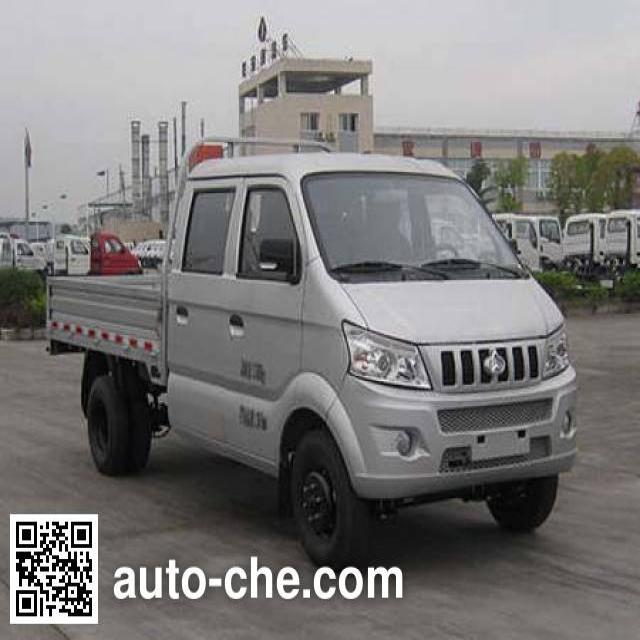normal_truck: (42, 137, 581, 570)
